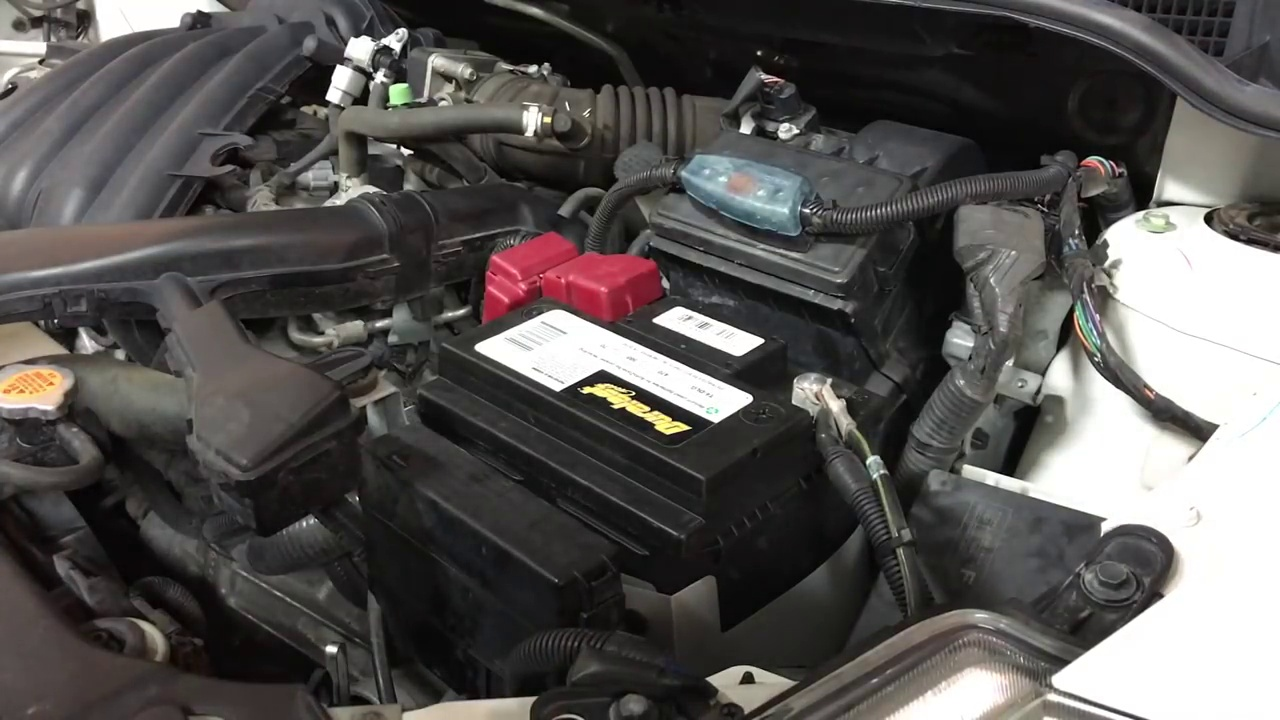battery: (430, 272, 839, 477)
neg_connected: (773, 342, 861, 462)
pos_connected: (471, 244, 673, 337)
